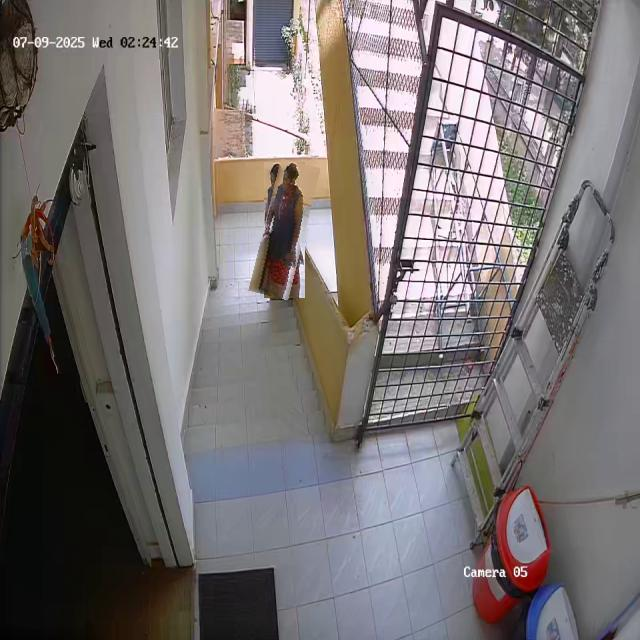person: (256, 161, 313, 299)
